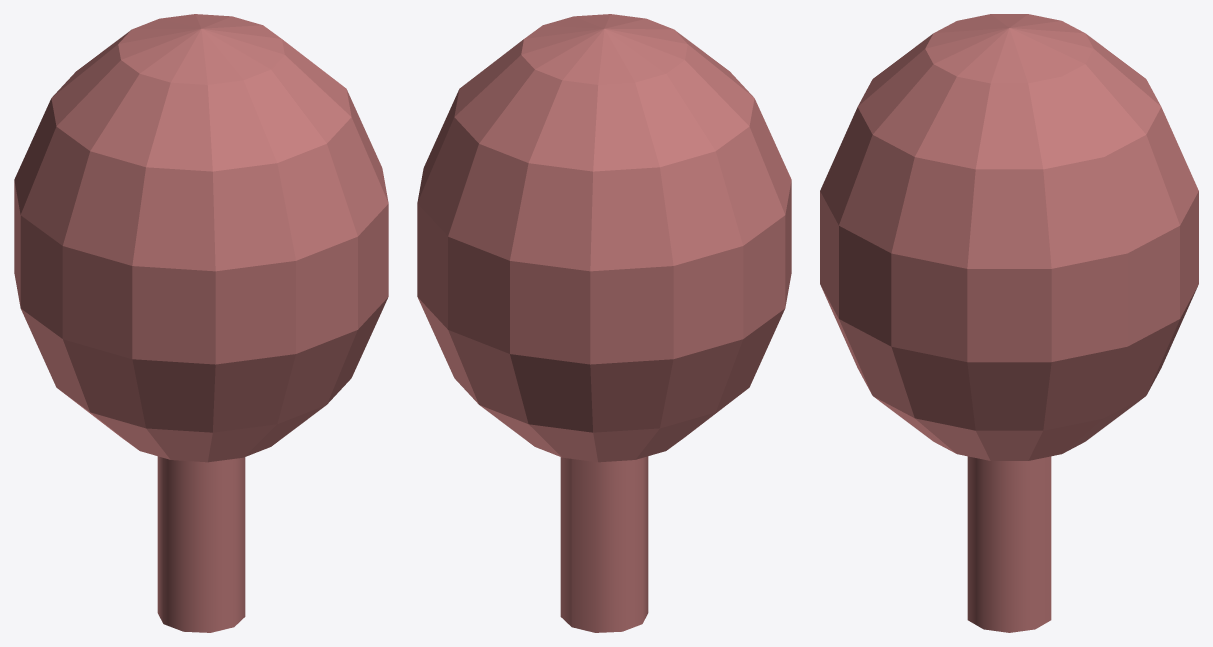
File: froz.glb
3 renders of one model, left to right at view 1: azimuth 30°, elevation 25°; view 2: azimuth 150°, elevation 25°; view 3: azimuth 270°, elevation 25°, orthographic.
Parts seen in each view (by area): view 1: x3ds_Sphere01, x3ds_Cylinder01; view 2: x3ds_Sphere01, x3ds_Cylinder01; view 3: x3ds_Sphere01, x3ds_Cylinder01.
Part boxes in pixels (<box>): x3ds_Sphere01: <box>14,14,388,462</box>; x3ds_Cylinder01: <box>157,456,245,632</box>; x3ds_Sphere01: <box>417,14,791,462</box>; x3ds_Cylinder01: <box>560,456,648,632</box>; x3ds_Sphere01: <box>820,14,1198,460</box>; x3ds_Cylinder01: <box>967,456,1051,632</box>.
Size of the model in its own units: 63.9 by 112 by 65.54.
